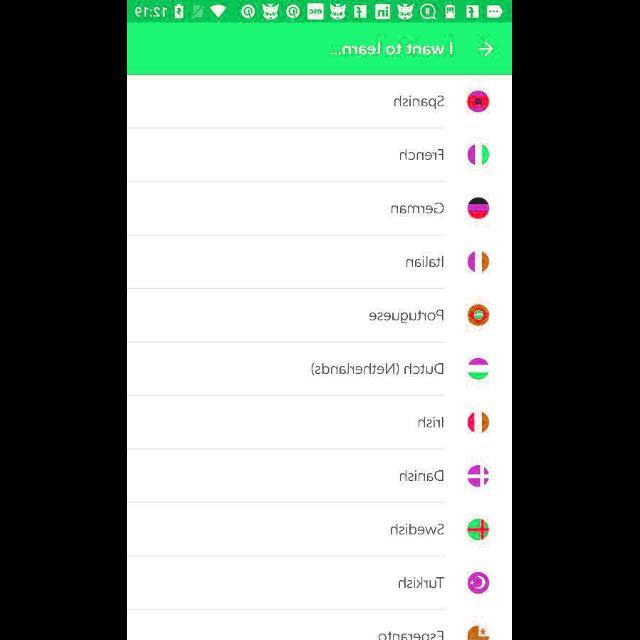icon: (478, 42, 494, 58)
image: (467, 572, 489, 594), (467, 518, 489, 540), (468, 465, 490, 487), (468, 411, 490, 433), (468, 358, 490, 380), (468, 304, 490, 326), (468, 251, 490, 273), (468, 198, 490, 220), (468, 144, 490, 166), (468, 91, 490, 113), (468, 626, 490, 640)
text: (312, 362, 444, 376), (331, 42, 453, 56), (370, 310, 444, 324), (394, 96, 444, 110), (380, 630, 444, 640), (392, 523, 444, 535), (392, 203, 444, 215), (398, 577, 446, 589), (401, 470, 445, 482), (400, 149, 444, 161), (406, 256, 444, 268), (418, 416, 444, 428)
toolbar: (128, 24, 512, 74)
uppertaskbar: (128, 1, 512, 23)
